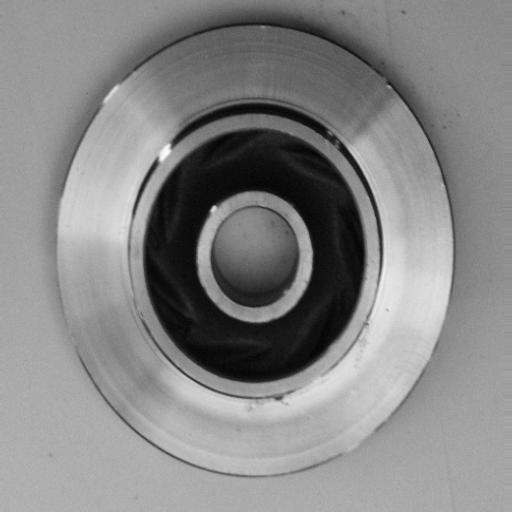crack: (235, 381, 311, 419)
scratch: (148, 124, 190, 179), (351, 300, 377, 381)
unpolished_casting: (50, 20, 460, 480)
